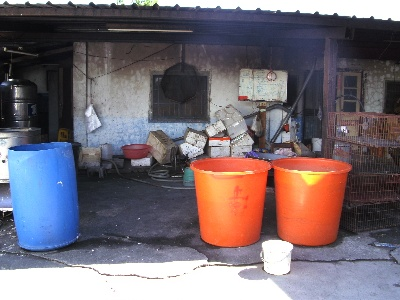bowl: (121, 144, 152, 159)
box: (146, 130, 178, 165), (78, 145, 102, 169)
bucket: (7, 142, 79, 251), (189, 157, 271, 248), (270, 156, 351, 247), (262, 240, 292, 275)
styrofoam: (213, 106, 247, 137), (184, 128, 207, 149), (204, 118, 227, 137), (130, 154, 153, 167), (232, 146, 253, 157), (209, 147, 230, 158), (209, 137, 229, 147)
water_tower: (1, 78, 38, 128)
